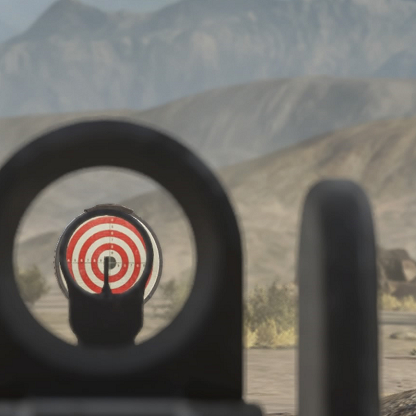target: (57, 209, 161, 295)
